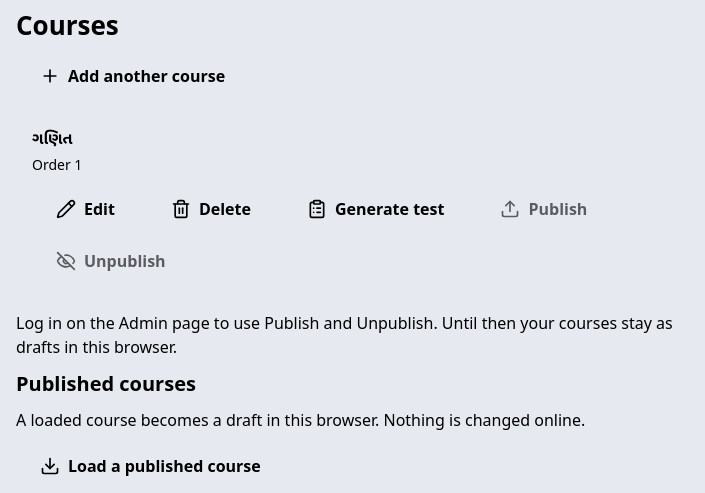
Test case: CourseManager: delete a test › deleting the last test leaves the empty text
Click the button "Generate test".
click(376, 208)  # box [283,186,468,230]
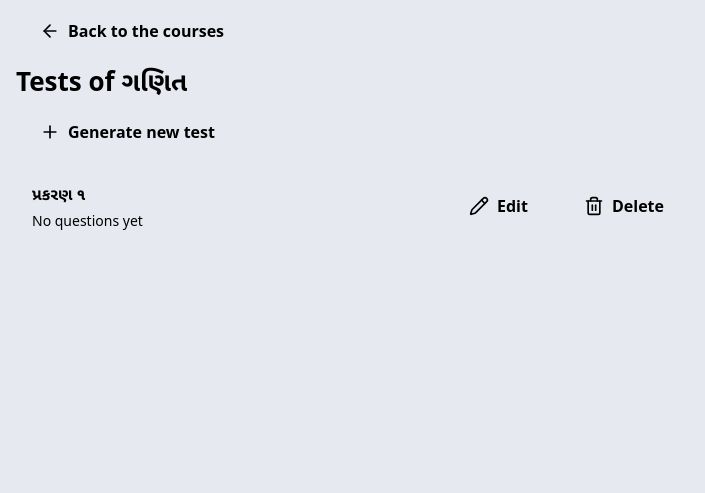
Click the button "Delete".
click(624, 206)  # box [560,184,688,228]
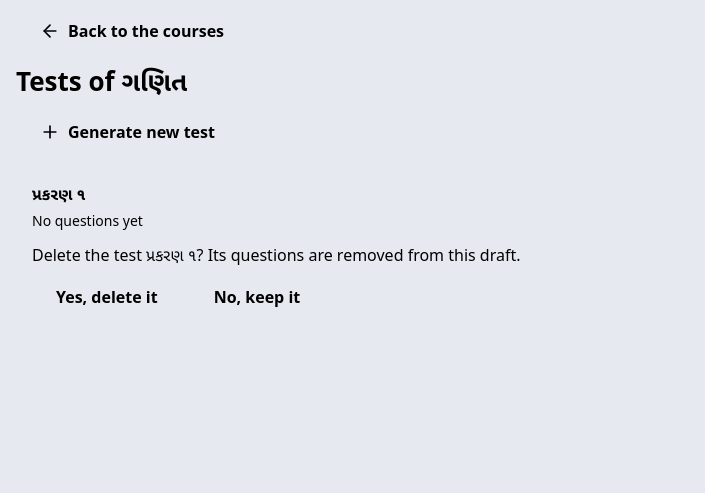
Click the button "Yes, delete it".
click(107, 296)  # box [32,274,182,318]
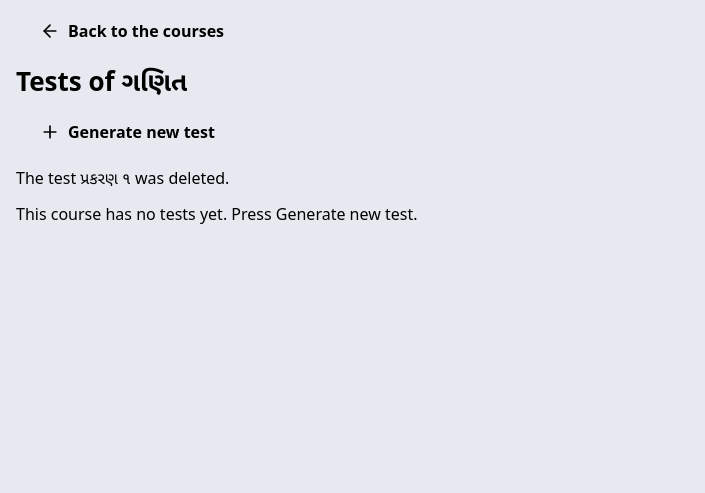
Now the text "This course has no tests yet. Press Generate new test." is shown, box [16,202,418,224]
